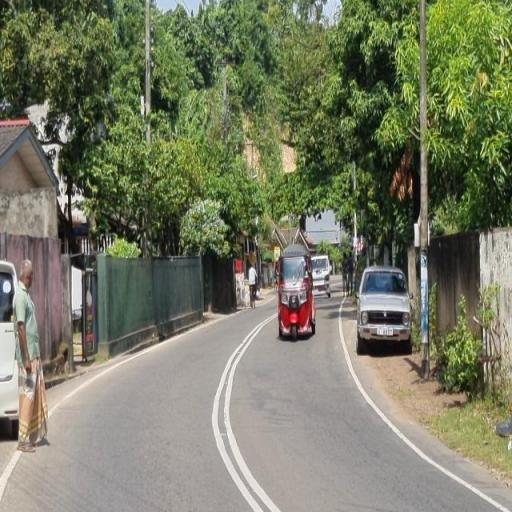double_white_line: (336, 305, 509, 511), (210, 307, 277, 511)
